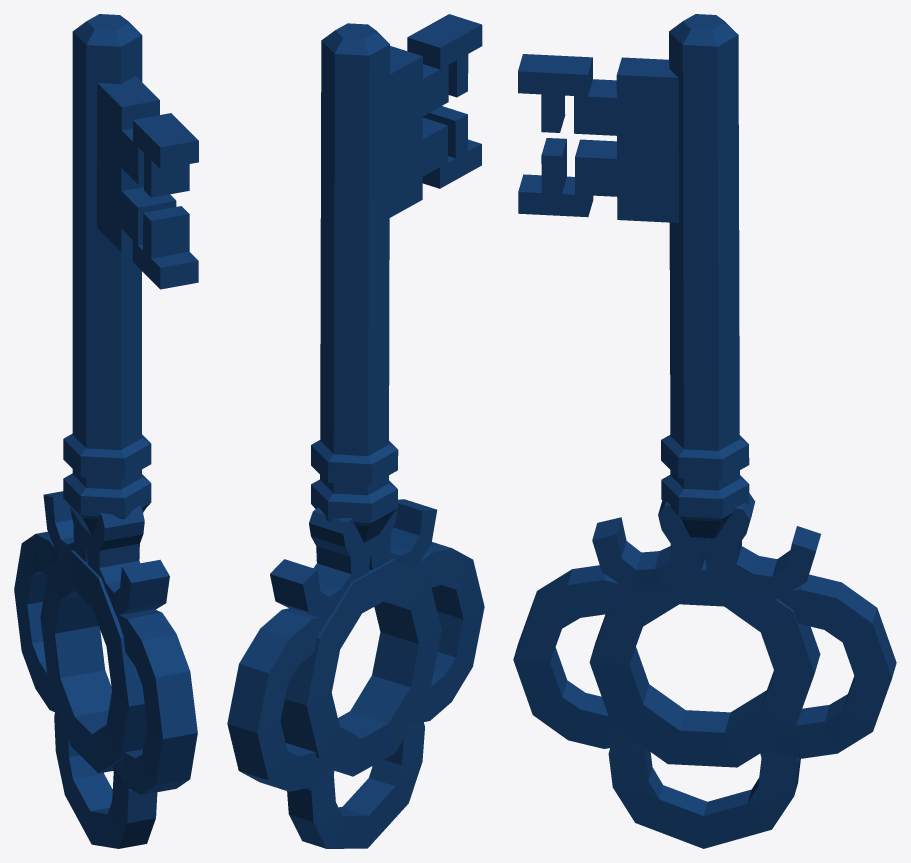
Rendered from key.obj.
The picture shows the model from 3 angles, left to right: view 1: azimuth 30°, elevation 25°; view 2: azimuth 150°, elevation 25°; view 3: azimuth 270°, elevation 25°; orthographic projection.
Visible parts, largest first — view 1: Key4_Cube.009; view 2: Key4_Cube.009; view 3: Key4_Cube.009.
Part boxes in pixels (left/top/right/bottom): Key4_Cube.009: left=14, top=14, right=198, bottom=848; Key4_Cube.009: left=227, top=14, right=484, bottom=848; Key4_Cube.009: left=513, top=14, right=896, bottom=848.
Bounding box in the file's own units: 0.0103 × 0.1106 × 0.0468.
